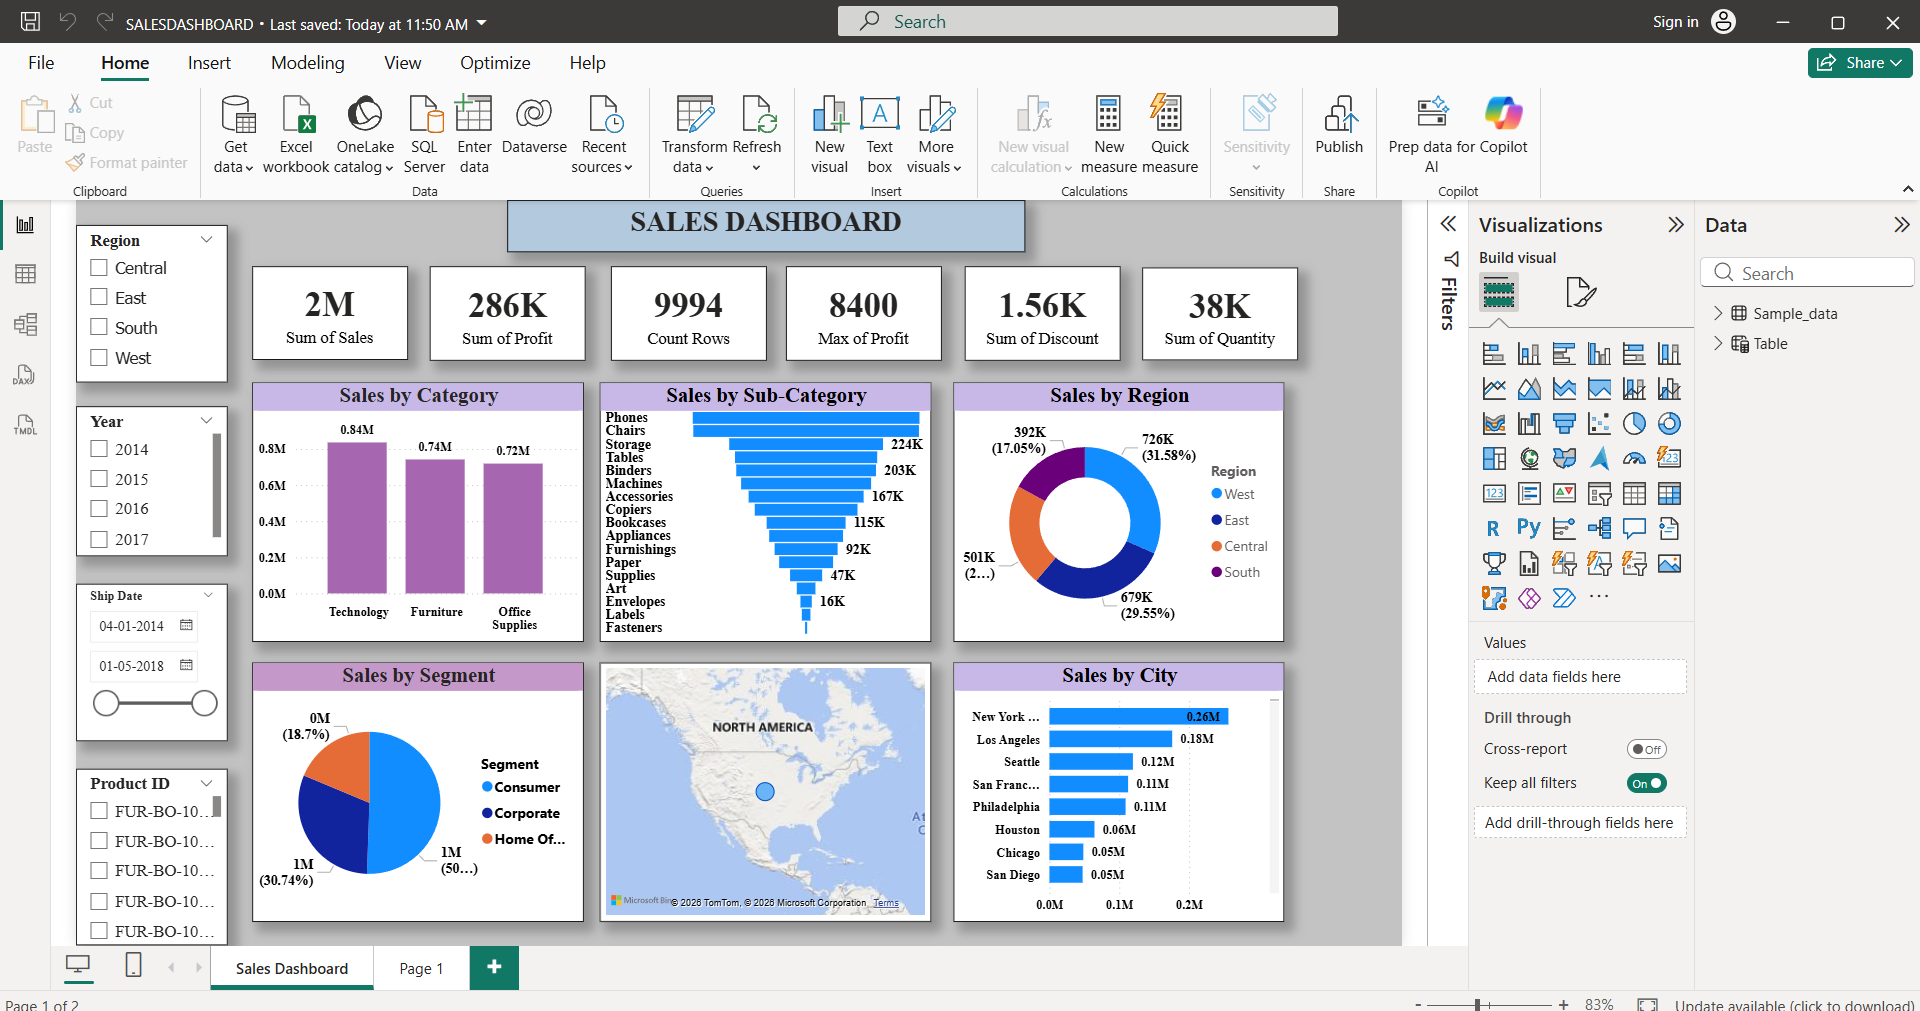

The page's visual inventory and layout, read from the dashboard file:
{"tool":"powerbi","page":{"name":"Sales Dashboard","canvas":[1280,720],"ordinal":0},"visuals":[{"type":"columnChart","title":" Sales by Category","fields":{"Category":["Sample_data.Category"],"Y":["Sum(Sample_data.Sales)"]},"box":[170,176,320,250],"z":0},{"type":"card","fields":{"Values":["Sum(Sample_data.Sales)"]},"box":[170,64,150,90],"z":1000},{"type":"textbox","box":[416,0,500,50],"z":2000},{"type":"card","fields":{"Values":["Table.Count Rows"]},"box":[516.1,63.6,150.4,91.1],"z":3000},{"type":"card","fields":{"Values":["Sum(Sample_data.Profit)"]},"box":[341.2,63.6,150.4,91.1],"z":4000},{"type":"card","fields":{"Values":["Max(Sample_data.Profit)"]},"box":[685.3,63.6,150.4,91.1],"z":5000},{"type":"slicer","fields":{"Values":["Sample_data.Region"]},"box":[0,24.6,146,151.8],"z":6000},{"type":"slicer","fields":{"Values":["Sample_data.Order Date.Variation.Date Hierarchy.Year"]},"box":[0,199.5,146,144.6],"z":7000},{"type":"slicer","fields":{"Values":["Sample_data.Product ID"]},"box":[0,549.4,146,170.6],"z":8000},{"type":"card","fields":{"Values":["Sum(Sample_data.Discount)"]},"box":[857.3,63.6,150.4,91.1],"z":9000},{"type":"funnel","title":" Sales by Sub-Category","fields":{"Y":["Sum(Sample_data.Sales)"],"Category":["Sample_data.Sub-Category"]},"box":[506,176.4,320,250.1],"z":10000},{"type":"donutChart","title":" Sales by Region","fields":{"Category":["Sample_data.Region"],"Y":["Sum(Sample_data.Sales)"]},"box":[847.2,176.4,319.5,250.1],"z":11000},{"type":"slicer","fields":{"Values":["Sample_data.Ship Date"]},"box":[0,370.1,146,151.8],"z":12000},{"type":"pieChart","title":" Sales by Segment","fields":{"Category":["Sample_data.Segment"],"Y":["Sum(Sample_data.Sales)"]},"box":[170.6,446.7,320,250.1],"z":13000},{"type":"card","fields":{"Values":["Sum(Sample_data.Quantity)"]},"box":[1029.4,65.1,150.4,89.6],"z":14000},{"type":"map","fields":{"Category":["Sample_data.Country"],"Size":["Sum(Sample_data.Sales)"]},"box":[506,446.7,320,250.1],"z":15000},{"type":"barChart","title":" Sales by City","fields":{"Y":["Sum(Sample_data.Sales)"],"Category":["Sample_data.City"]},"box":[847.2,446.7,319.5,250.1],"z":16000}]}

Visuals, with their boxes on the page's 1280x720 design canvas (x1, y1, x2, y2). These are canvas units, not pixel positions in the 1920x1011 screenshot, which may show the page scaled, cropped or inside an application window:
" Sales by Category" columnChart: bbox=(170, 176, 490, 426)
card - Sum(Sample_data.Sales): bbox=(170, 64, 320, 154)
textbox: bbox=(416, 0, 916, 50)
card - Table.Count Rows: bbox=(516, 64, 666, 155)
card - Sum(Sample_data.Profit): bbox=(341, 64, 492, 155)
card - Max(Sample_data.Profit): bbox=(685, 64, 836, 155)
slicer - Sample_data.Region: bbox=(0, 25, 146, 176)
slicer - Sample_data.Order Date.Variation.Date Hierarchy.Year: bbox=(0, 200, 146, 344)
slicer - Sample_data.Product ID: bbox=(0, 549, 146, 720)
card - Sum(Sample_data.Discount): bbox=(857, 64, 1008, 155)
" Sales by Sub-Category" funnel: bbox=(506, 176, 826, 426)
" Sales by Region" donutChart: bbox=(847, 176, 1167, 426)
slicer - Sample_data.Ship Date: bbox=(0, 370, 146, 522)
" Sales by Segment" pieChart: bbox=(171, 447, 491, 697)
card - Sum(Sample_data.Quantity): bbox=(1029, 65, 1180, 155)
map - Sample_data.Country x Sum(Sample_data.Sales): bbox=(506, 447, 826, 697)
" Sales by City" barChart: bbox=(847, 447, 1167, 697)
